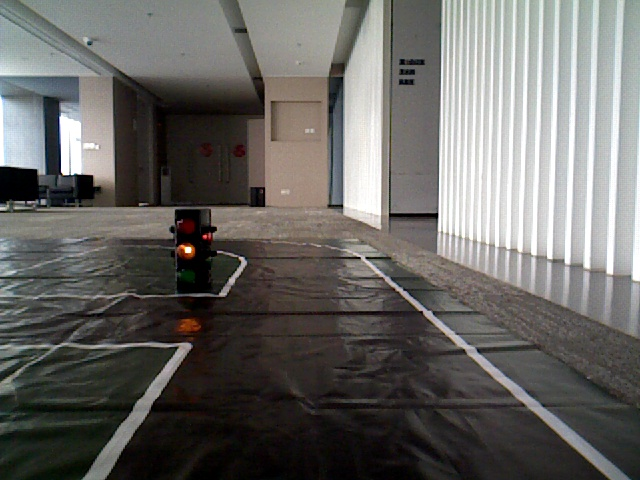yellow: (172, 212, 204, 279)
